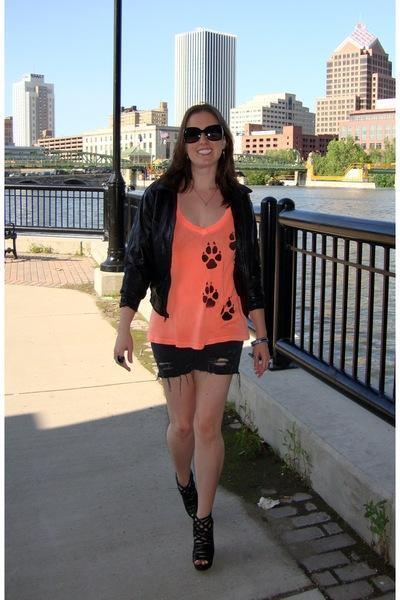jacket: (120, 180, 273, 320)
shirt: (158, 207, 251, 347)
shoe: (177, 472, 213, 571)
skirt: (151, 340, 242, 383)
sunglass: (184, 124, 221, 142)
